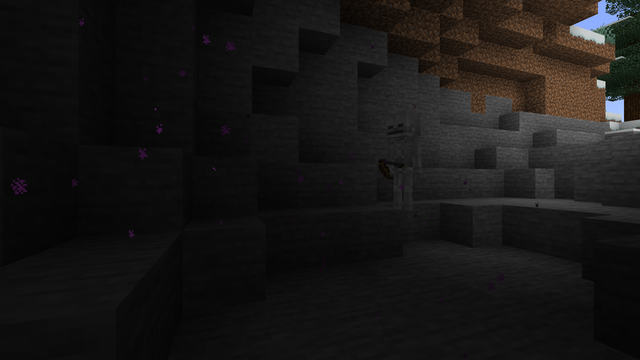squelettes: (382, 110, 423, 211)
